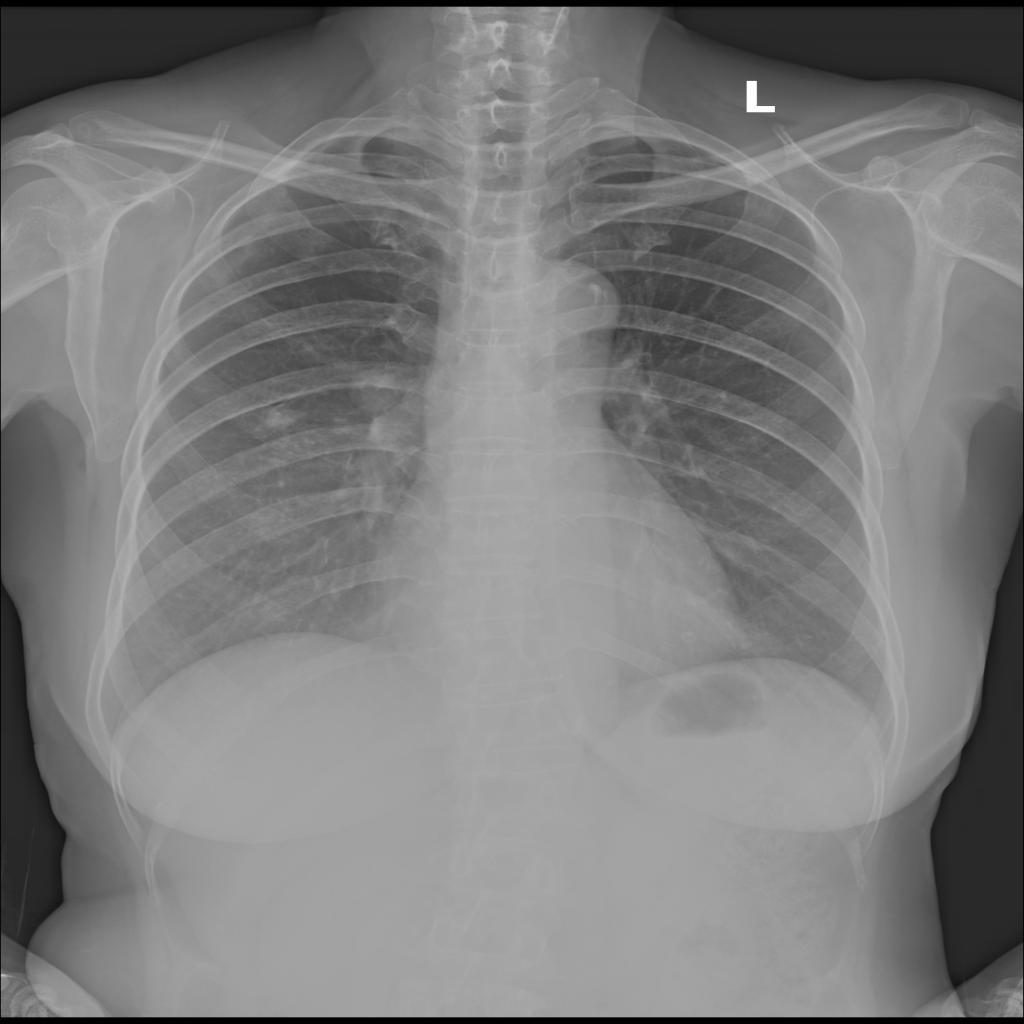Nodule: (344, 370, 405, 412), (405, 381, 457, 418), (263, 406, 310, 429)
